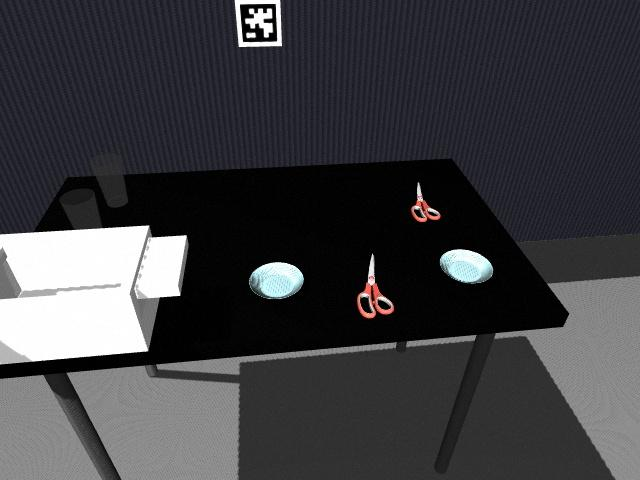cup: (91, 154, 128, 206), (60, 189, 100, 230)
plate: (247, 262, 304, 300), (438, 248, 495, 285), (442, 253, 464, 277), (250, 271, 267, 297)
scissors: (355, 252, 397, 319), (410, 180, 442, 223)
